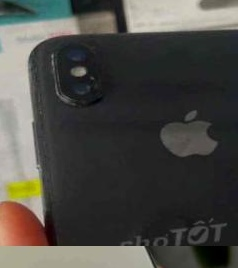scratch: (22, 48, 53, 162), (88, 42, 104, 58)
